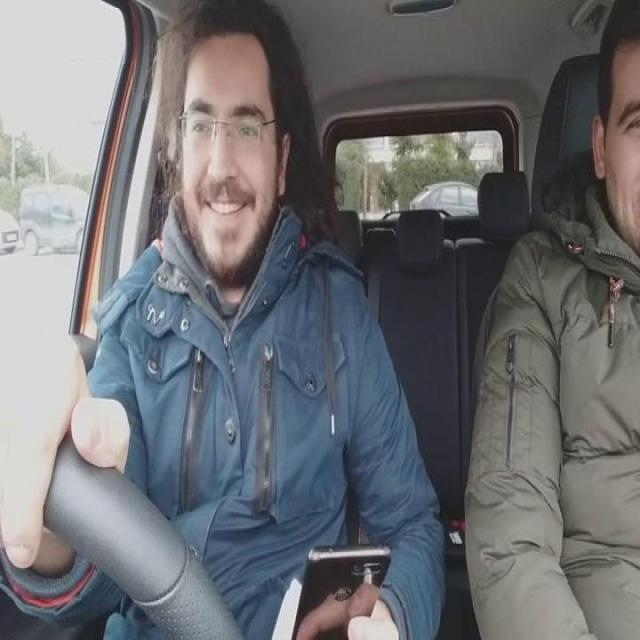phone: (292, 542, 393, 640)
